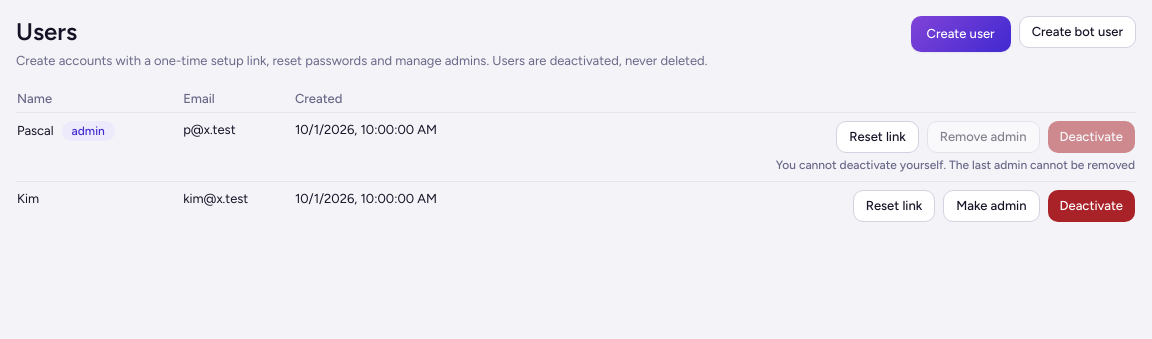
it: UsersView › issues a reset link
Step 1. Click the button with aria-label "Reset link for Kim" → (894,206), box [853,190,935,222]
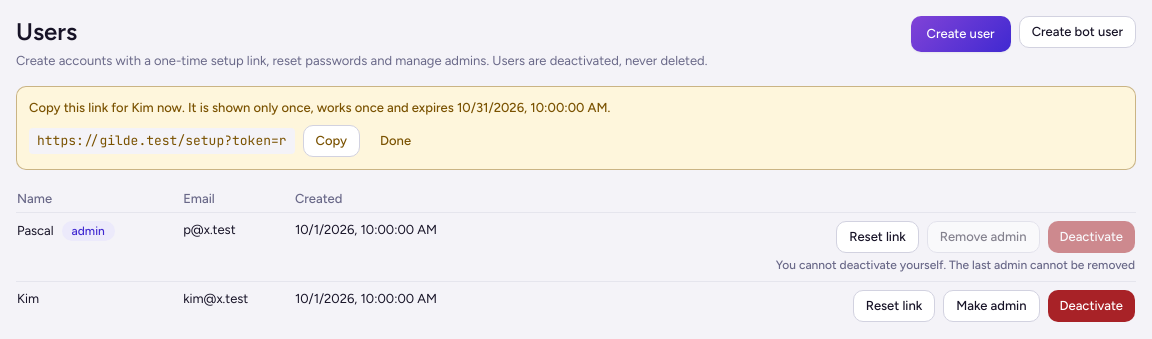
Result: the text "https://gilde.test/setup?token=r" is shown at [29,128,295,154]
